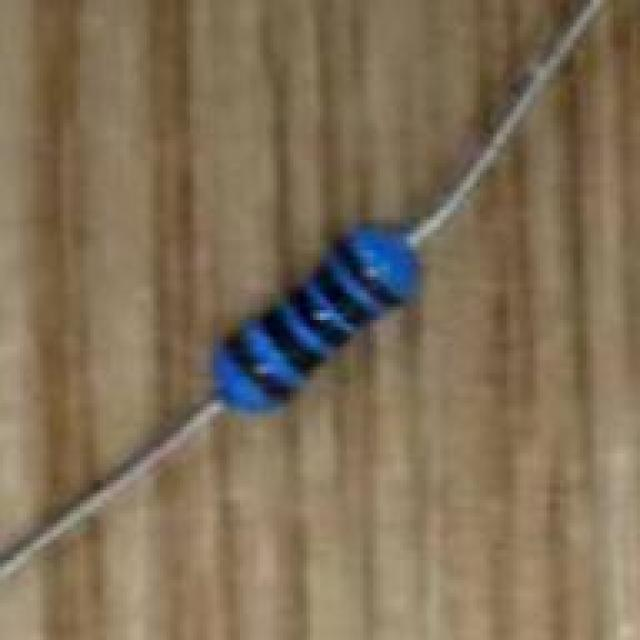Resistor: (213, 227, 417, 410)
black: (261, 312, 326, 379), (313, 265, 376, 329), (291, 283, 350, 350)
brown: (224, 336, 300, 405), (335, 241, 406, 309)
